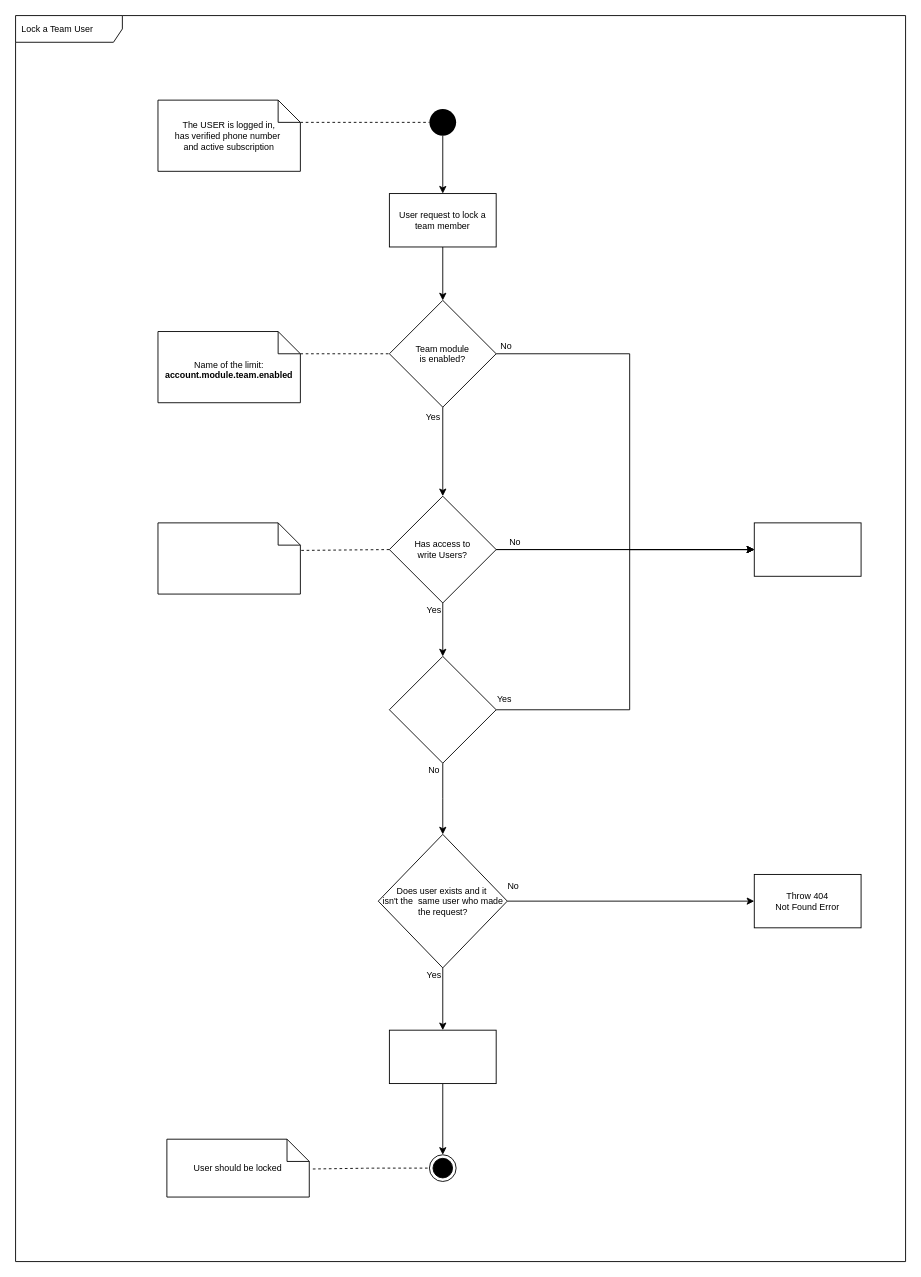
Some shapes in this 921 by 1277 pixel diagram are drawn without their labels. The centre of each missing label's shape, as x and y in pixels:
"Does the user is the owner or is the user who made the request?" goes at pixel 442 709.
"Lock the user and send an email with explanation" goes at pixel 442 1056.
"The User should be an account owner or should has users:write permissions" goes at pixel 228 558.
"Throw 403 Forbidden Error" goes at pixel 807 549.
